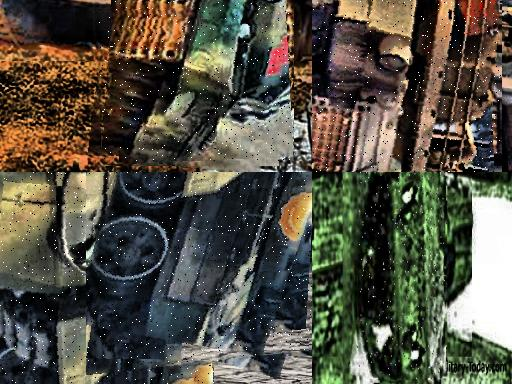tanks: (87, 173, 313, 362), (1, 173, 156, 384), (313, 1, 502, 173), (100, 1, 288, 162), (358, 173, 448, 381)
